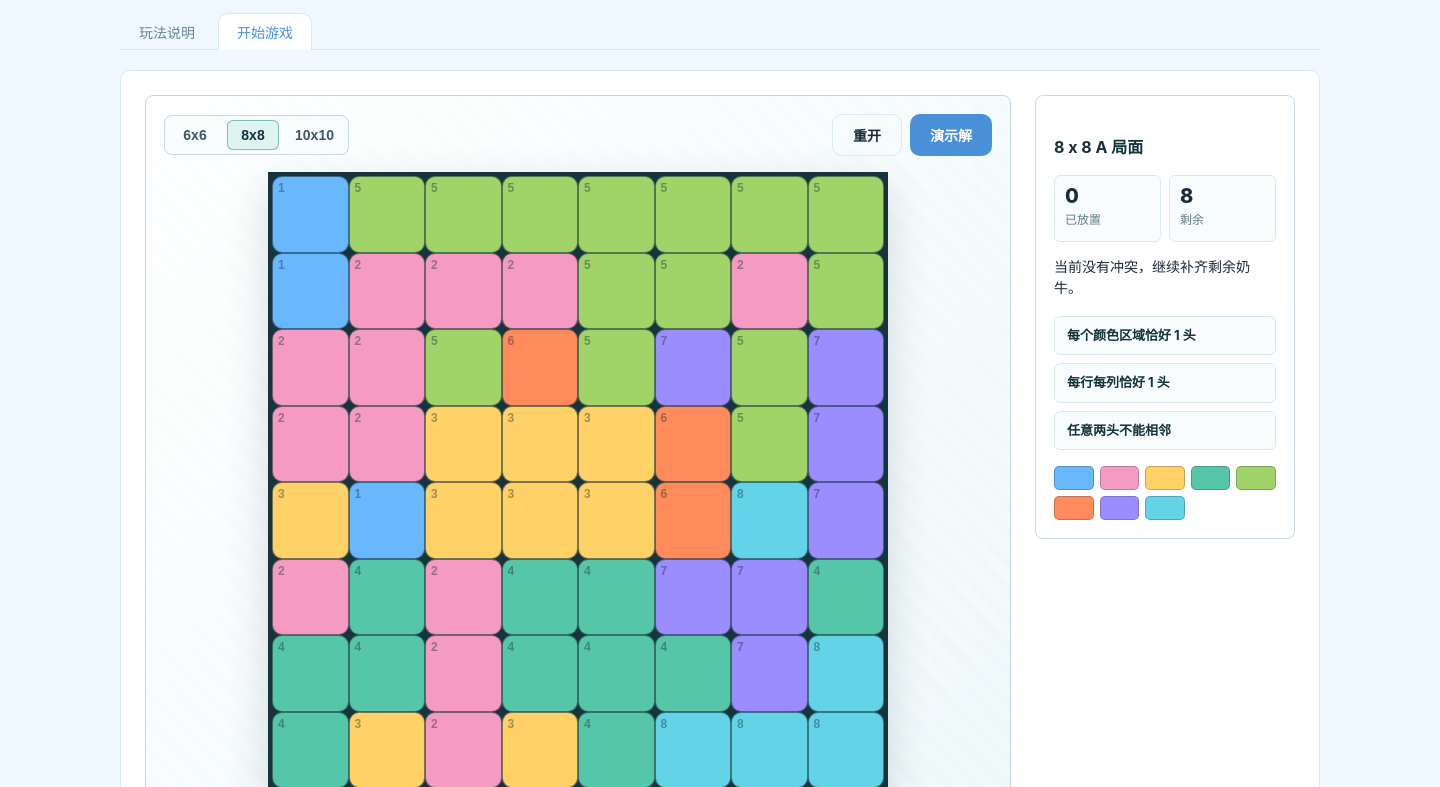
Test case: PlayDetail › switches board sizes and rebuilds board state
What coordinates should you click on to do the following:
click the button "6x6"
I would click on:
 (195, 135)
Its box is [169, 120, 221, 150].
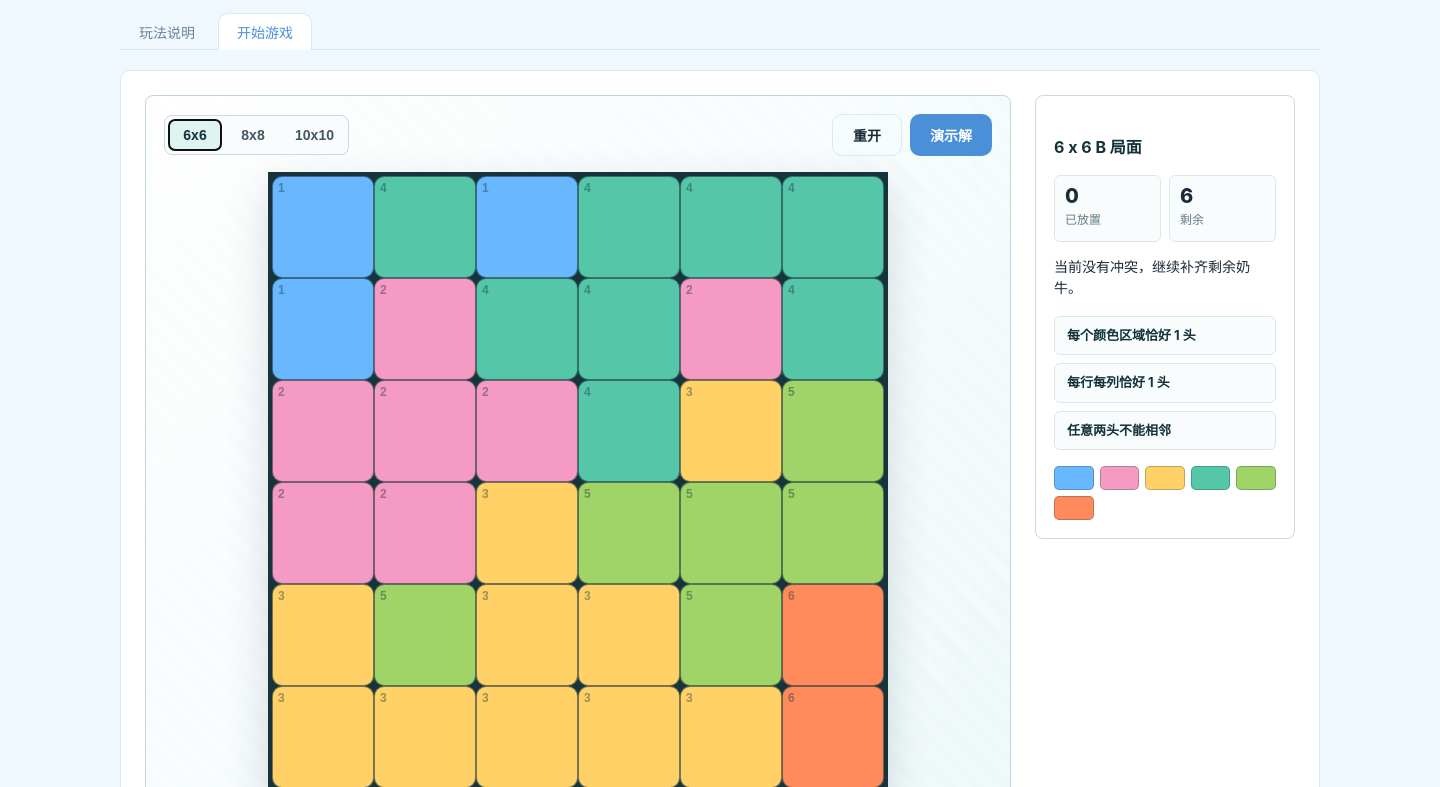
What coordinates should you click on to do the following:
click the button "10x10"
I would click on:
 (314, 135)
Its box is [285, 120, 344, 150].
(page scrolled)
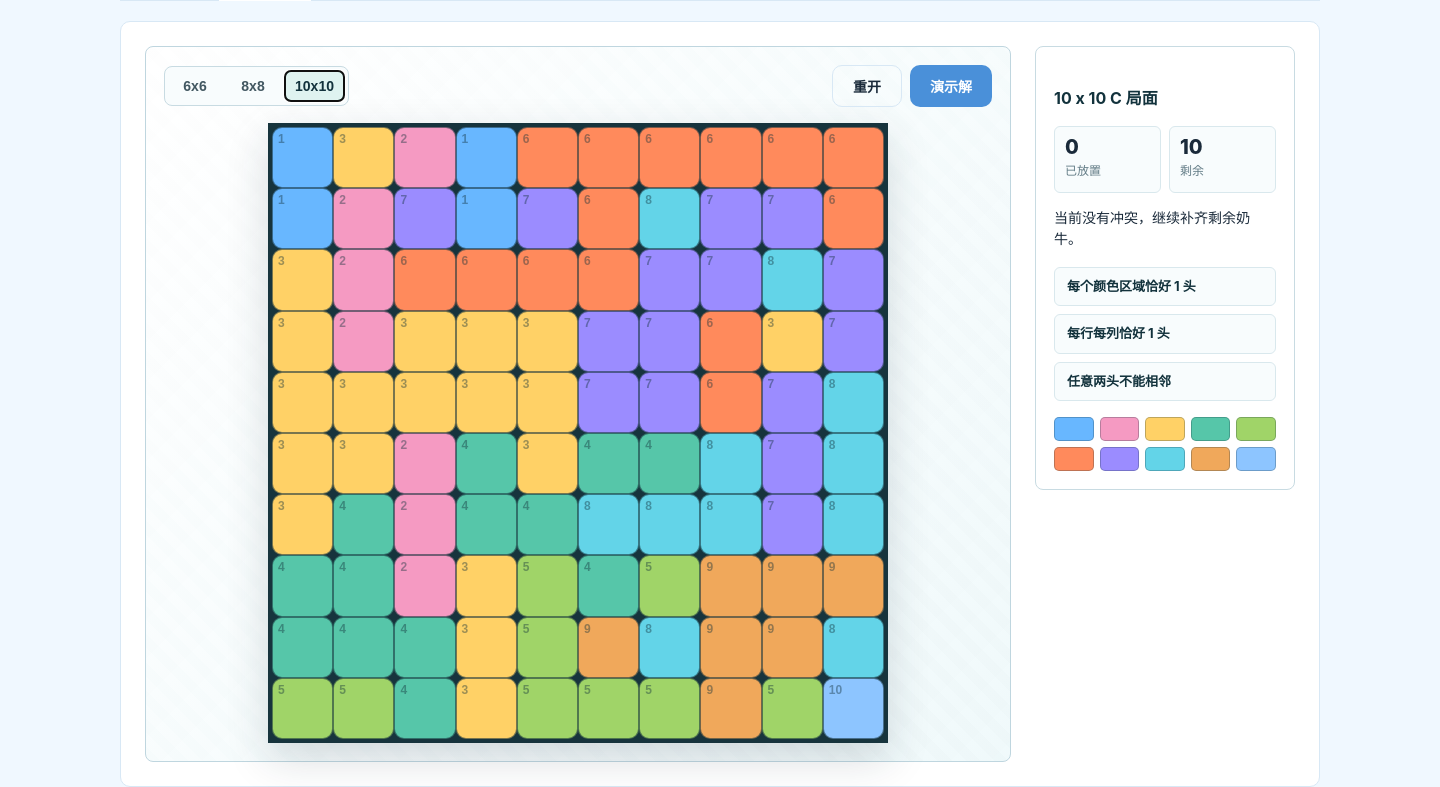
Expected: the element named "10 x 10 C 奶牛摆放棋盘" is shown, [268, 123, 888, 743]
